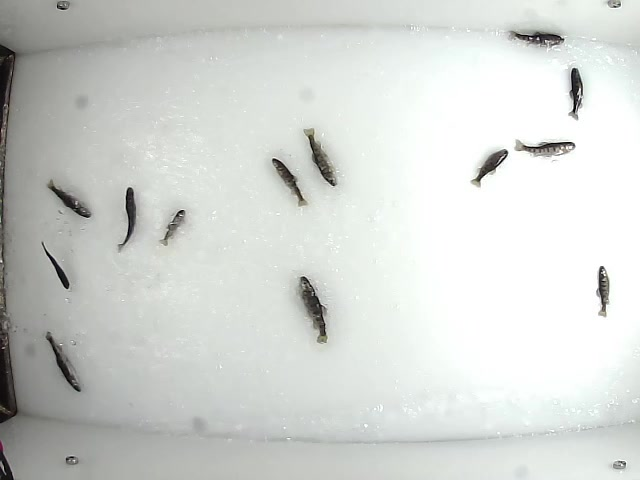fish: (43, 329, 83, 394), (297, 274, 330, 344), (302, 126, 338, 189), (269, 156, 310, 208), (44, 177, 91, 220), (39, 239, 73, 292), (469, 147, 510, 189), (512, 136, 575, 160), (116, 186, 138, 253), (503, 29, 566, 49), (155, 206, 185, 247), (593, 264, 613, 320), (567, 66, 584, 120)
